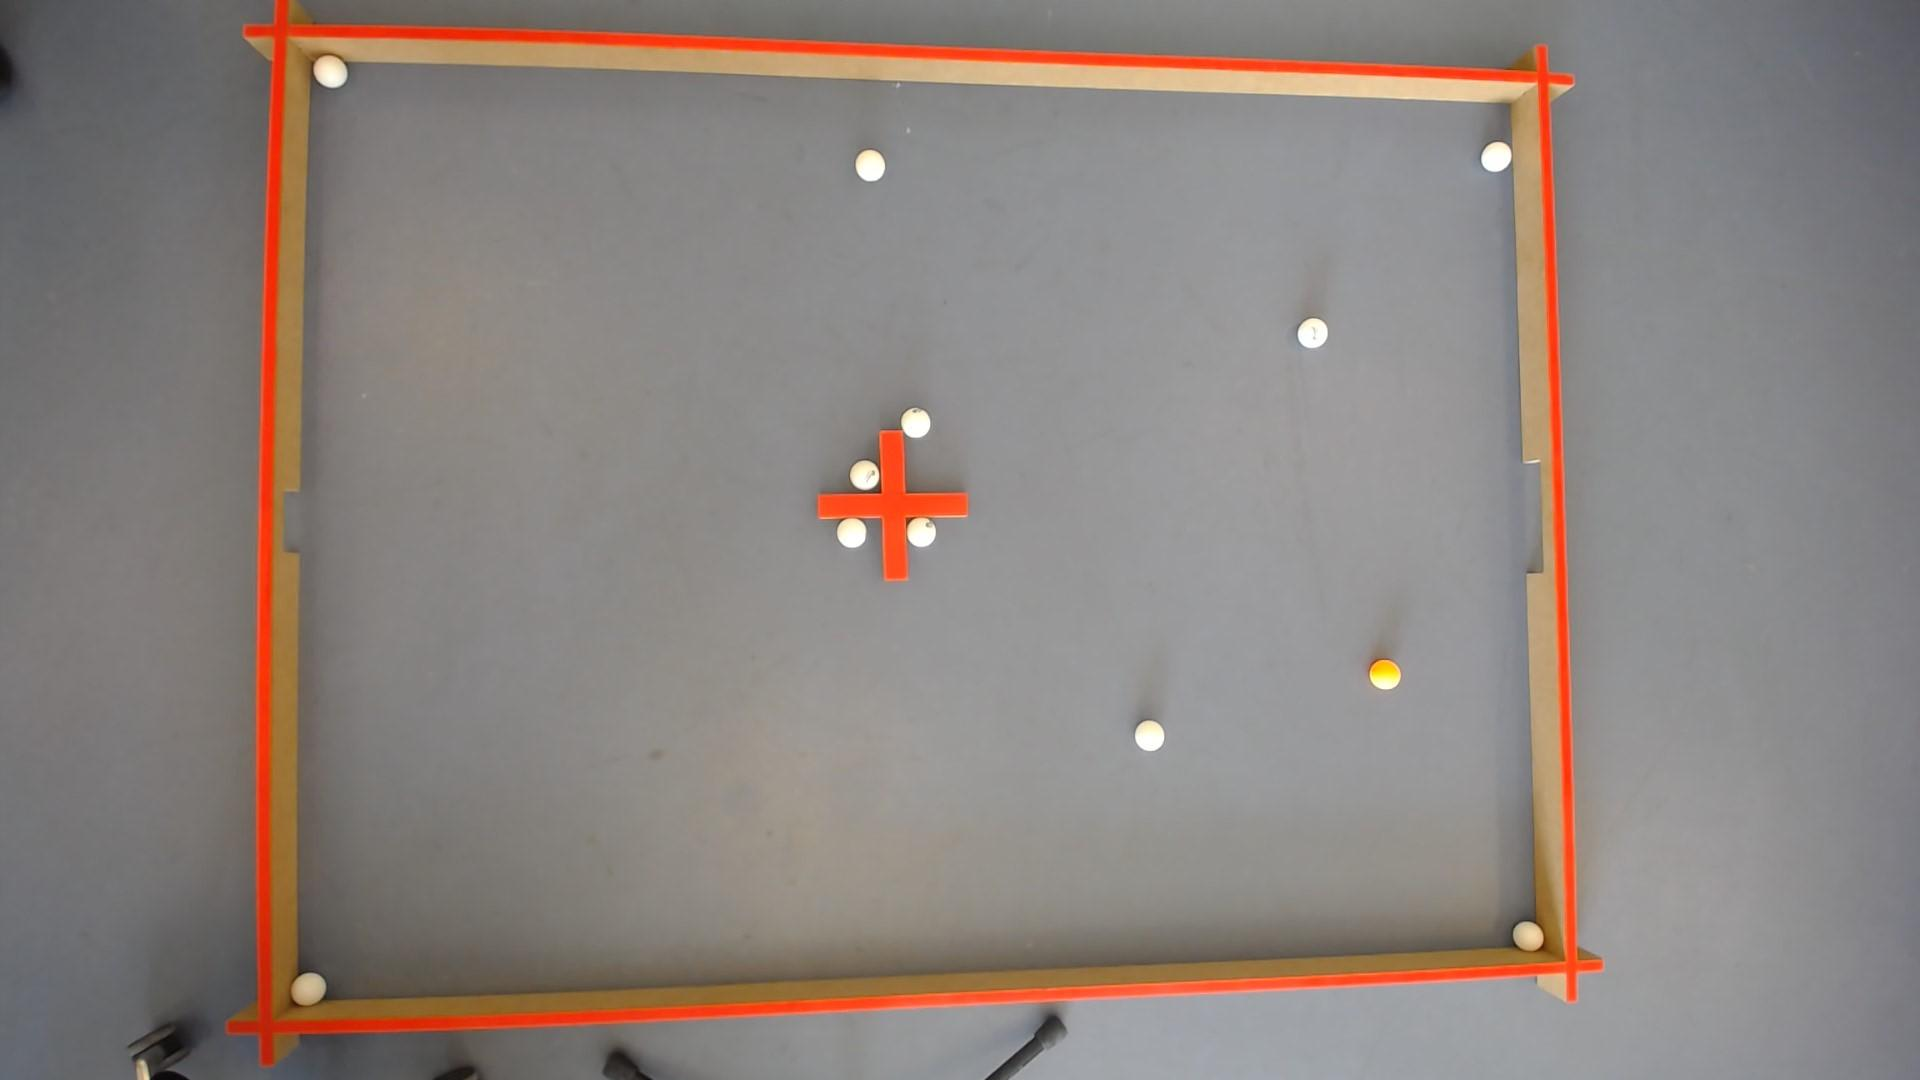orange: (1371, 658, 1403, 690)
white: (310, 51, 345, 84), (287, 975, 324, 1006), (1484, 138, 1515, 170), (855, 146, 885, 179), (1299, 316, 1331, 347), (1515, 922, 1547, 952), (849, 459, 880, 489), (907, 516, 938, 546), (1137, 720, 1166, 750), (901, 406, 930, 436), (837, 517, 866, 546)
